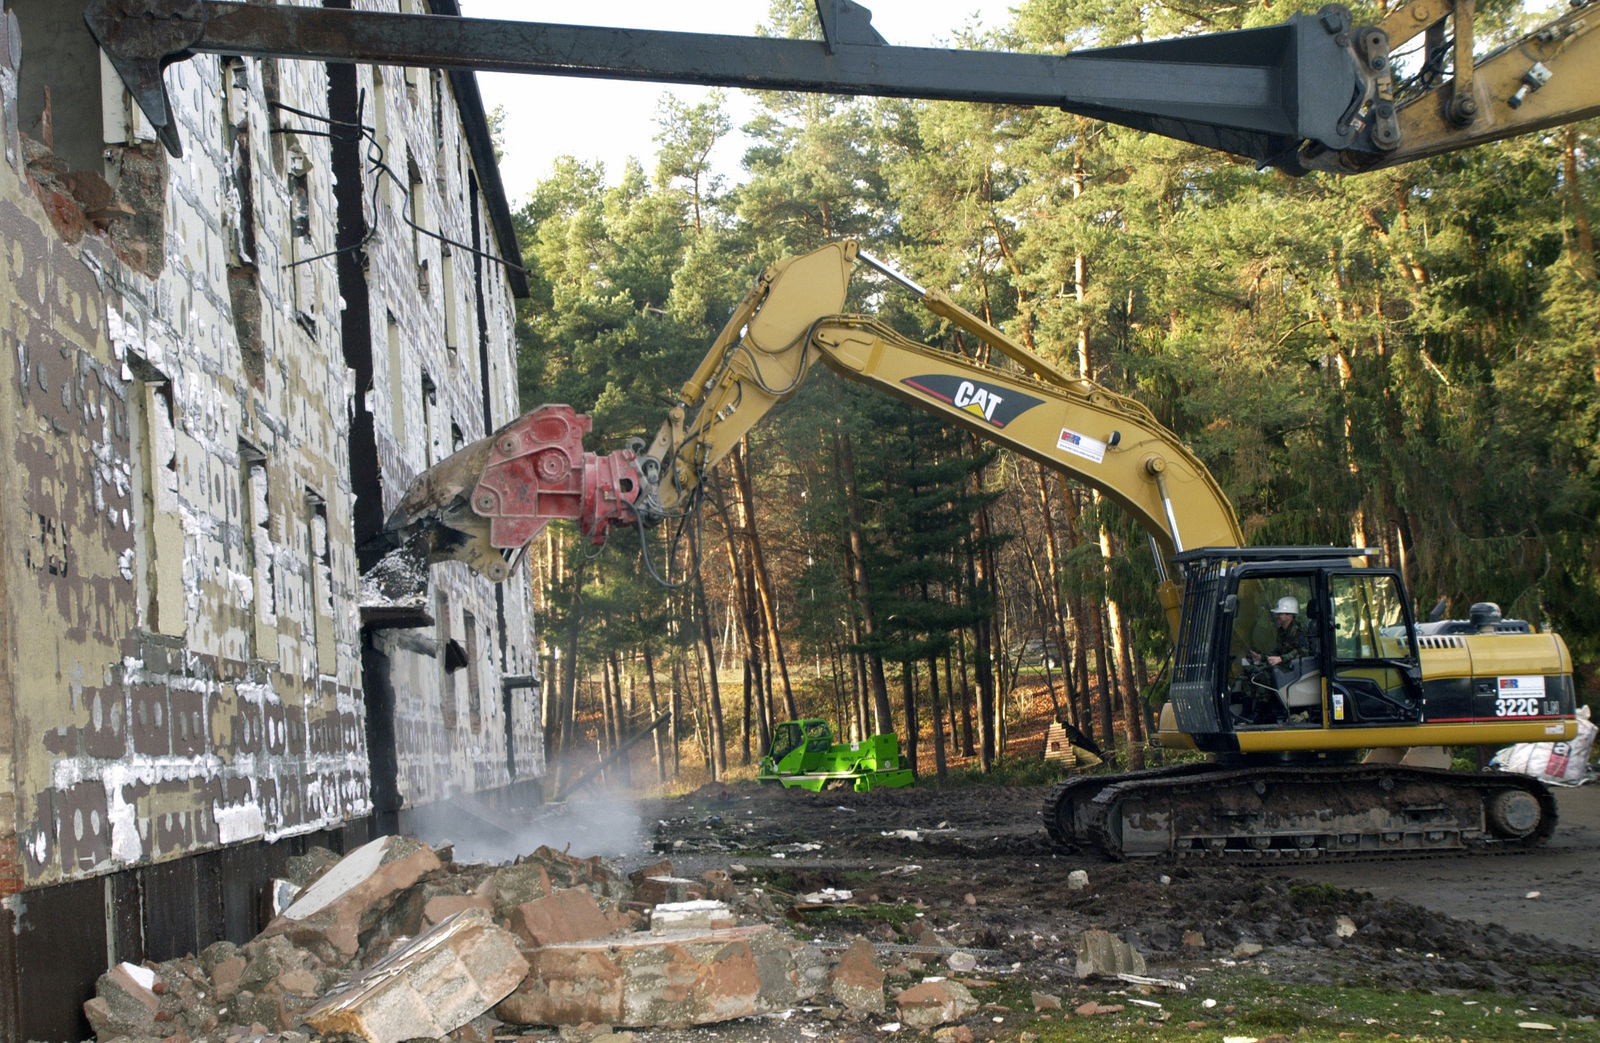excavator: (379, 242, 1580, 871)
